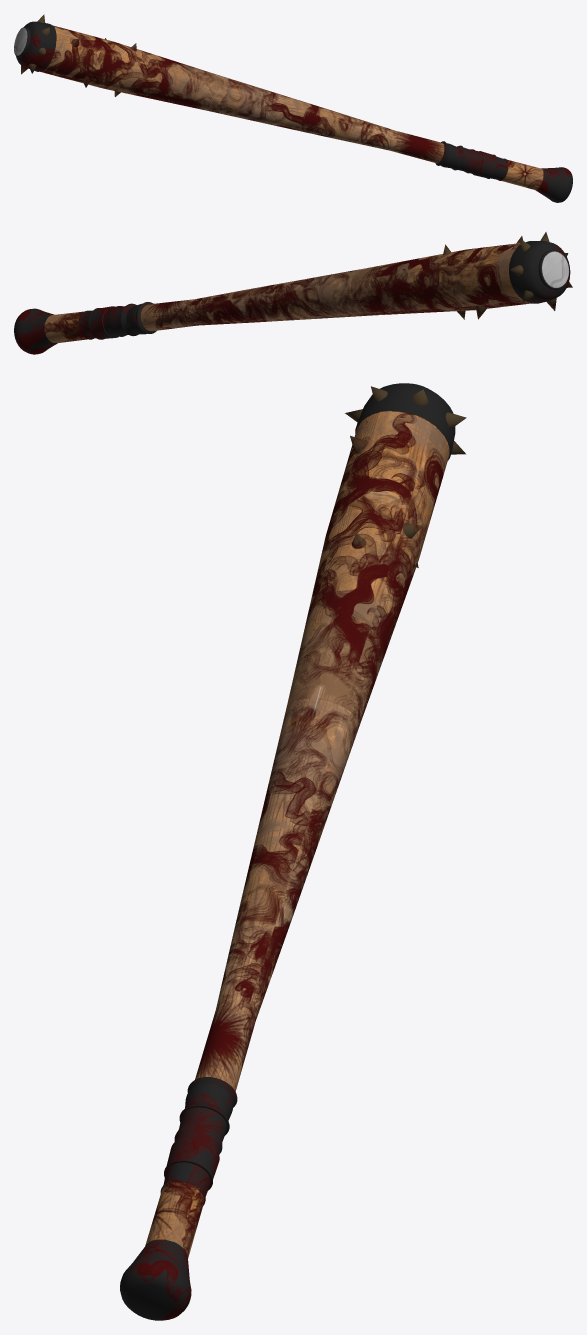
The model's file is bat_-_nightmare_reaper.glb.
3 renders of one model, top to bottom at view 1: azimuth 30°, elevation 25°; view 2: azimuth 150°, elevation 25°; view 3: azimuth 270°, elevation 25°, orthographic. The views are drawn at different scales.
Visible parts, largest first — view 1: Circle.008; view 2: Circle.008; view 3: Circle.008.
Boxes of the visible parts, x1,y1,x2,y2 form: Circle.008: (14, 14, 572, 202); Circle.008: (14, 232, 572, 354); Circle.008: (120, 383, 466, 1320).
Size of the model in its own units: 3.61 by 1.73 by 1.1.
1 material, 1 textured.
